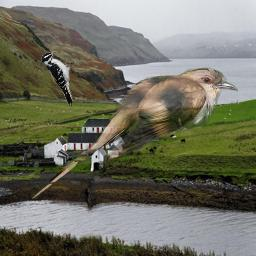Cuckoo: (31, 67, 238, 201)
Woodpecker: (41, 51, 77, 107)
